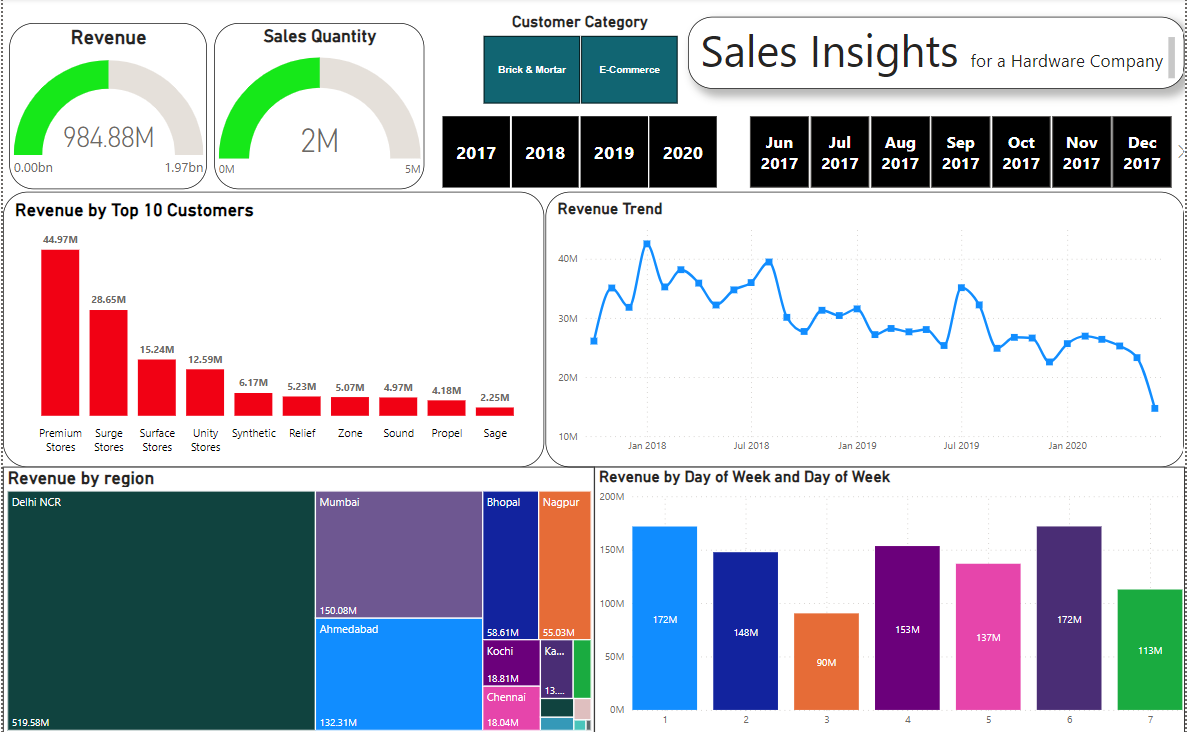

The dashboard page shown, as its layout file describes it:
{"tool":"powerbi","page":{"name":"SALES INSIGHTS","canvas":[1447,900],"ordinal":0},"visuals":[{"type":"gauge","fields":{"Y":["Base Measure.Revenue"]},"box":[8.3,30,241.7,203.3],"z":0},{"type":"gauge","title":"Sales Quantity","fields":{"Y":["Base Measure.Sales Quantity"]},"box":[258.3,30,256.7,203.3],"z":1000},{"type":"columnChart","title":"Revenue by Top 10 Customers","fields":{"Category":["sales customers.custmer_name"],"Y":["Base Measure.Revenue"]},"box":[0,236.7,661.7,336.7],"z":2000},{"type":"slicer","fields":{"Values":["sales date.cy_date.Variation.Date Hierarchy.Year"]},"box":[516.7,141.7,375,91.7],"z":3000},{"type":"slicer","fields":{"Values":["sales date.cy_date"]},"box":[891.7,141.7,555,91.7],"z":4000},{"type":"treemap","title":"Revenue by region","fields":{"Group":["sales markets.markets_name"],"Values":["Base Measure.Revenue"]},"box":[0,573.3,723.3,326.7],"z":5000},{"type":"slicer","title":"Customer Category","fields":{"Values":["sales customers.customer_type"]},"box":[566.7,16.7,276.7,115],"z":6000},{"type":"lineChart","title":"Revenue Trend","fields":{"Y":["Base Measure.Revenue"],"Category":["sales date.cy_date"]},"box":[663.3,236.7,781.7,336.7],"z":7000},{"type":"columnChart","fields":{"Category":["sales date.Day of Week"],"Y":["Base Measure.Revenue"],"Series":["sales date.Day of Week"]},"box":[723.3,573.3,723.3,326.7],"z":8000},{"type":"textbox","box":[836.7,23.3,608.3,88.3],"z":9000}]}

Visuals, with their boxes in screenshot pixels (x1, y1, x2, y2), scaled from the page's 1447x900 canvas onto the 1187x732 screenshot:
gauge - Base Measure.Revenue: rect(7, 24, 205, 190)
"Sales Quantity" gauge: rect(212, 24, 422, 190)
"Revenue by Top 10 Customers" columnChart: rect(0, 193, 543, 466)
slicer - sales date.cy_date.Variation.Date Hierarchy.Year: rect(424, 115, 731, 190)
slicer - sales date.cy_date: rect(731, 115, 1186, 190)
"Revenue by region" treemap: rect(0, 466, 593, 731)
"Customer Category" slicer: rect(465, 14, 692, 107)
"Revenue Trend" lineChart: rect(544, 193, 1185, 466)
columnChart - sales date.Day of Week x Base Measure.Revenue: rect(593, 466, 1186, 731)
textbox: rect(686, 19, 1185, 91)
